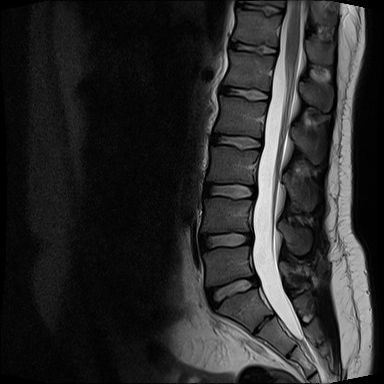Lumbar Disc Bulge (LDB): (198, 267, 261, 314), (190, 223, 260, 256)
Normal IVD: (199, 175, 259, 206), (204, 126, 263, 154), (214, 79, 272, 104), (229, 39, 278, 59), (233, 1, 286, 13)
